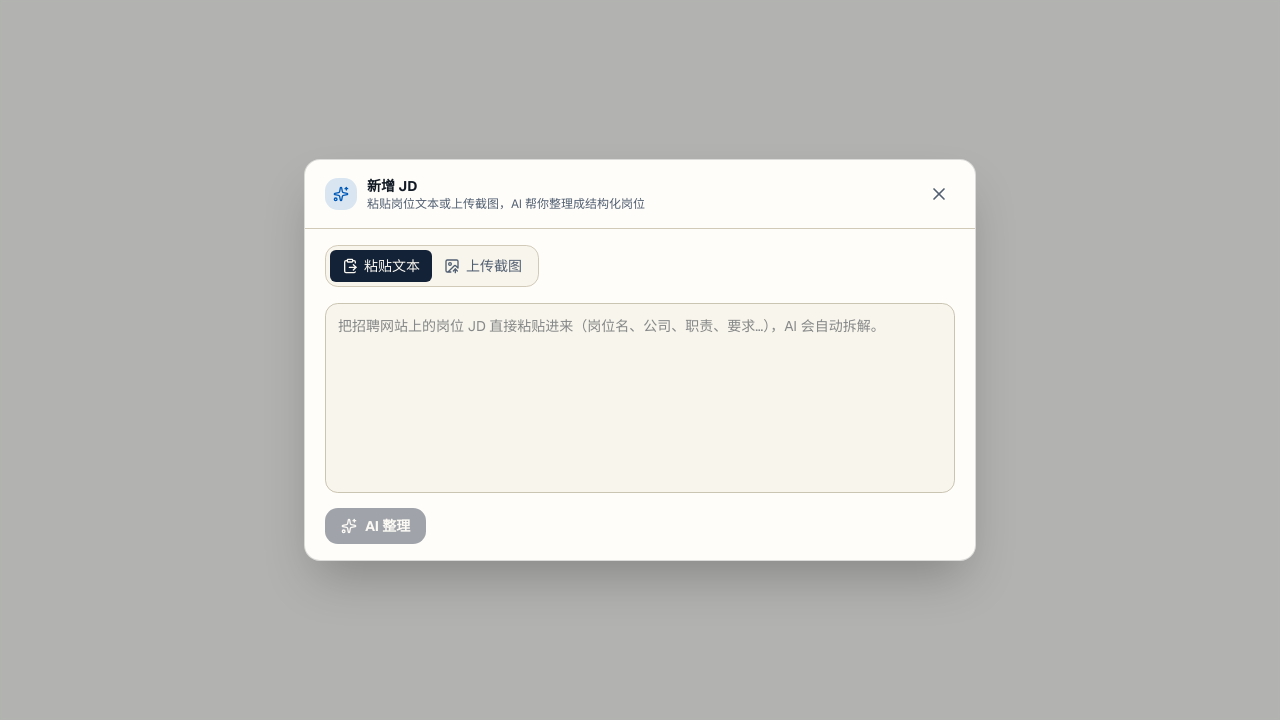
it: CreateJdModal 容器失败接线 › 解析抛 MODEL_NOT_CONFIGURED 时映射为 i18n 文案，不透出后端原文
Type "高级前端工程师" into the text box.
click(640, 398); type("高级前端工程师")  # box [325, 303, 955, 493]
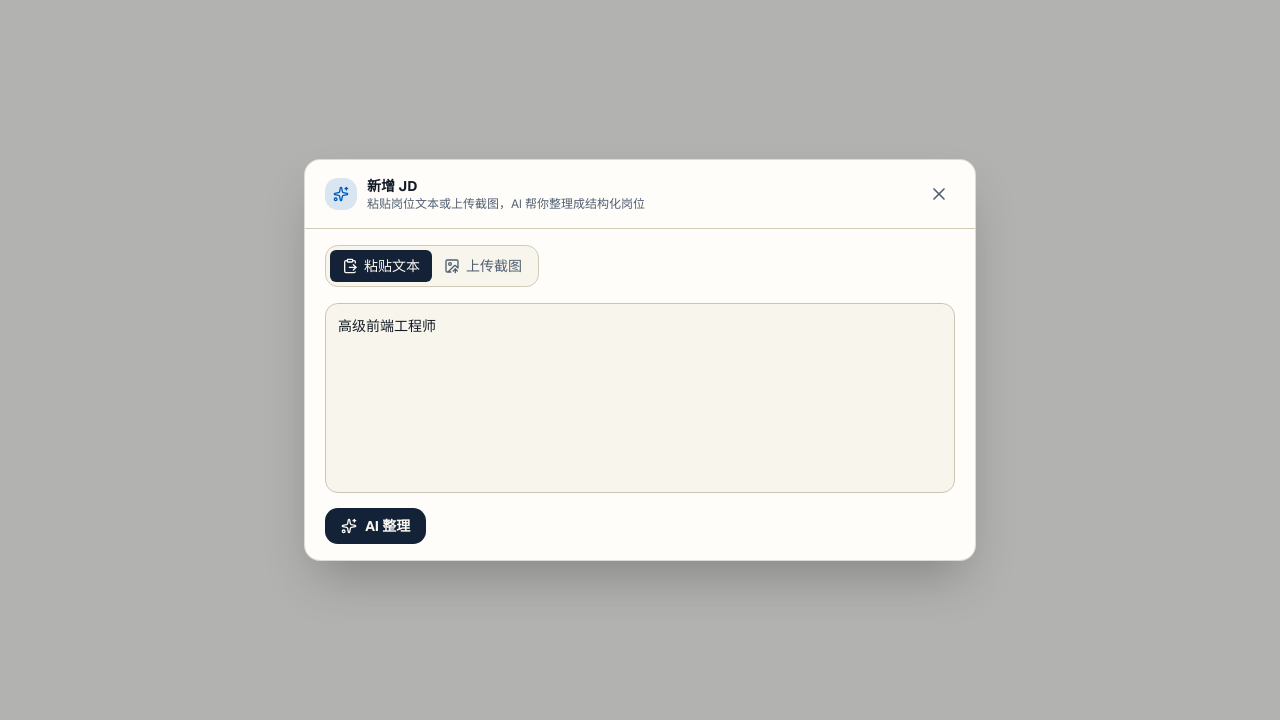
Click the button "AI 整理".
click(376, 526)  # box [325, 508, 426, 544]
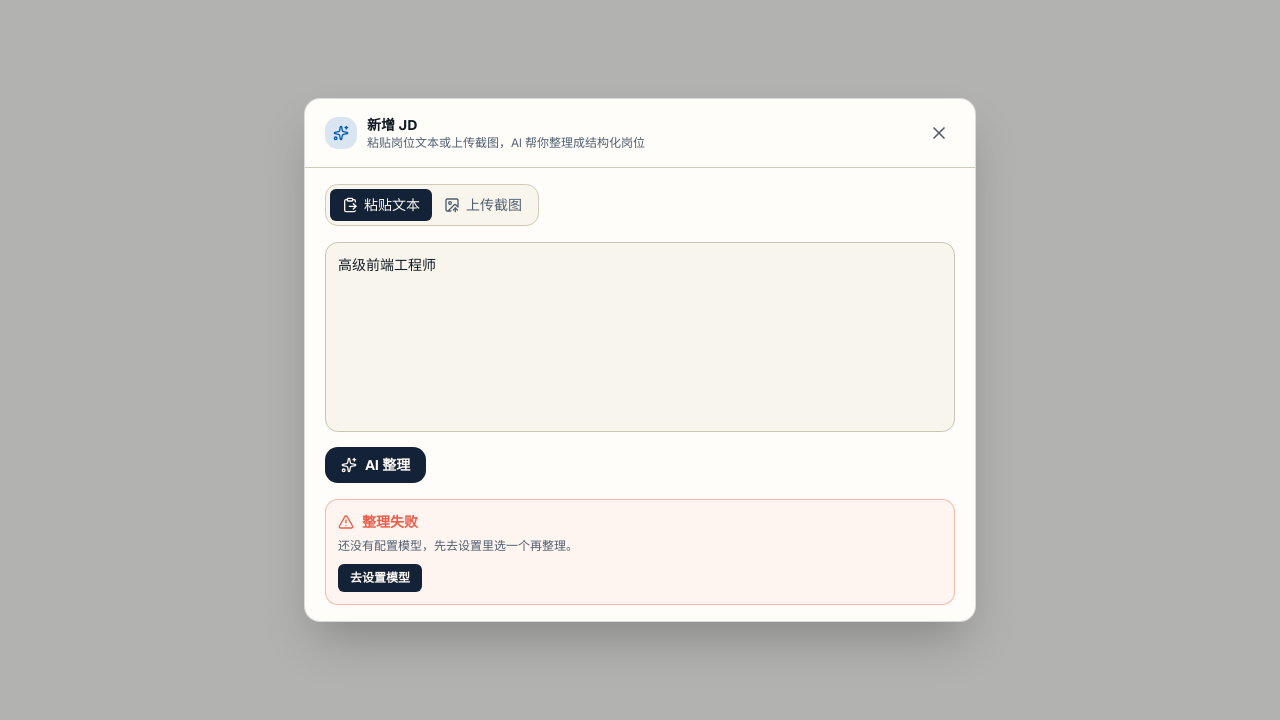
Expected: the message does not show "backend raw english message", [325, 499, 955, 605]
Expected: the button "AI 整理" is enabled, [325, 447, 426, 483]
Expected: the message shows "还没有配置模型，先去设置里选一个再整理。", [338, 538, 578, 554]
